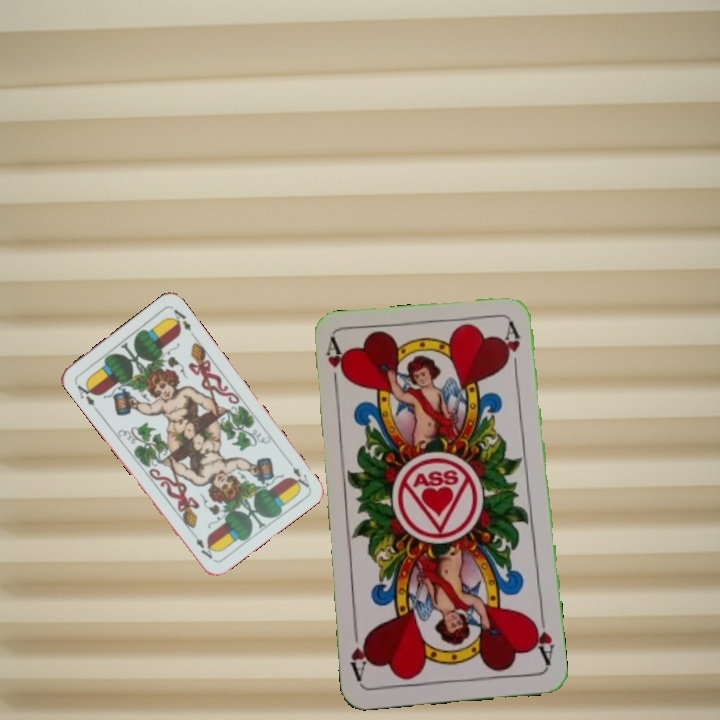EA: (283, 455, 312, 491), (71, 379, 100, 414)
HA: (528, 609, 557, 668), (322, 336, 348, 395)
